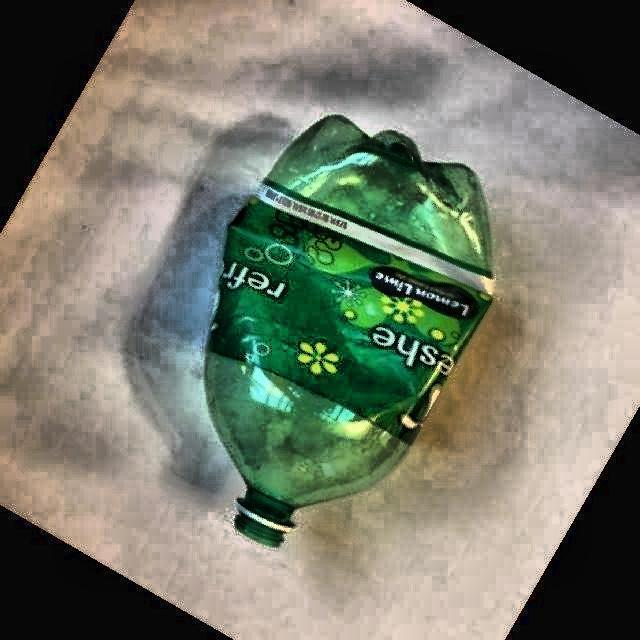plastic: (205, 115, 492, 547)
